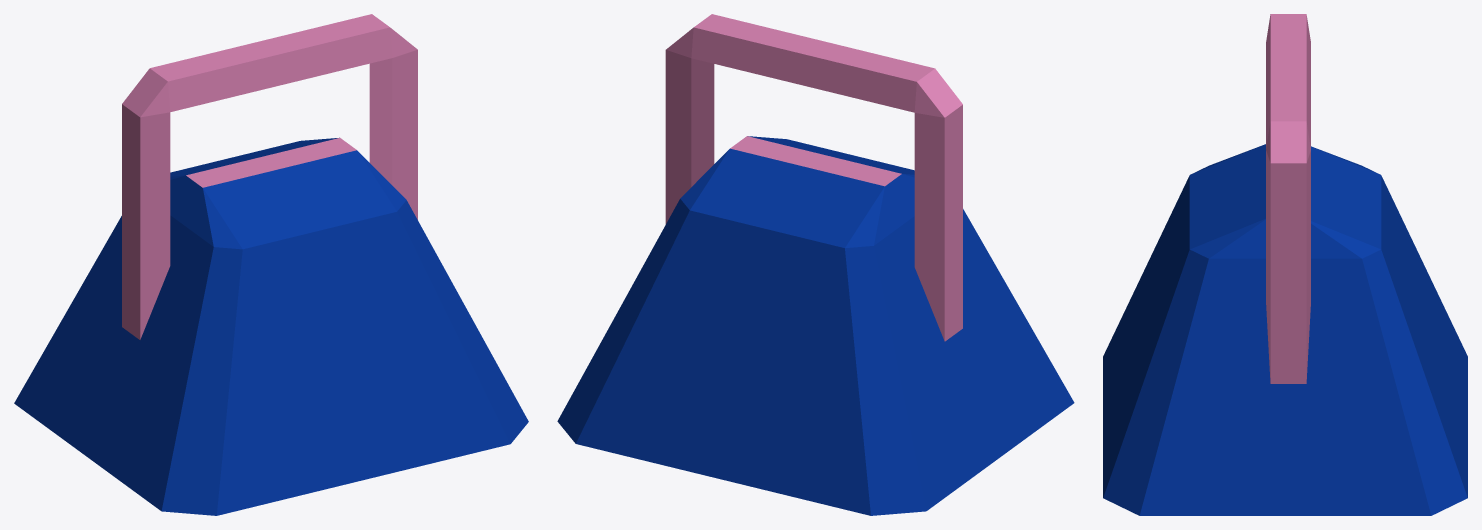
Rendered from SeesawBase_KW.fbx.
3 views of the same model, side by side, from view 1: azimuth 30°, elevation 25°; view 2: azimuth 150°, elevation 25°; view 3: azimuth 270°, elevation 25° (orthographic).
Parts seen in each view (by area): view 1: SeesawBase_KW; view 2: SeesawBase_KW; view 3: SeesawBase_KW.
Part boxes in pixels (box(x1,y1,x2,y2)): SeesawBase_KW: box(14, 14, 528, 515); SeesawBase_KW: box(557, 14, 1074, 515); SeesawBase_KW: box(1103, 14, 1467, 515).
Bounding box in the file's own units: 114 × 108 × 98.91.
